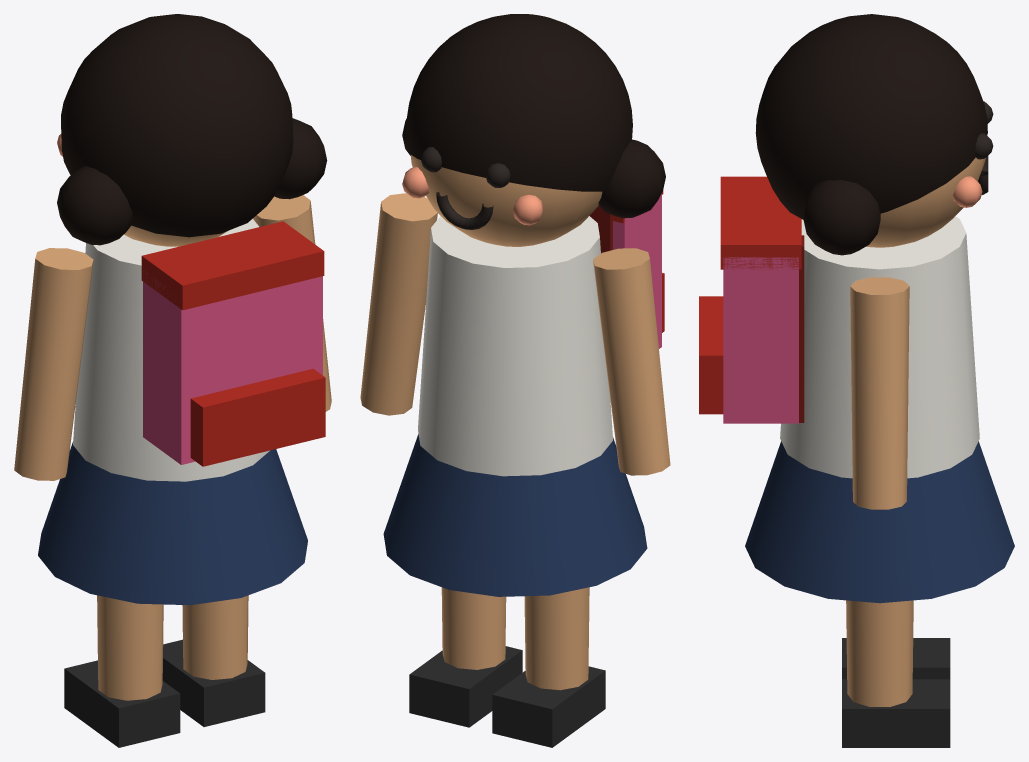
Rendered from visitor_4.fbx.
3 views of the same model, side by side, from view 1: azimuth 30°, elevation 25°; view 2: azimuth 150°, elevation 25°; view 3: azimuth 270°, elevation 25° (orthographic). The views are drawn at different scales.
Visible parts, largest first — view 1: M__visitor_4-body, M__visitor_4-armL, M__visitor_4-shinL, M__visitor_4-shinR, M__visitor_4-armR, M__visitor_4-legL; view 2: M__visitor_4-body, M__visitor_4-armL, M__visitor_4-armR, M__visitor_4-shinL, M__visitor_4-shinR, M__visitor_4-legL; view 3: M__visitor_4-body, M__visitor_4-armR, M__visitor_4-shinR, M__visitor_4-shinL, M__visitor_4-legR.
Part boxes in pixels (box(x1,y1,x2,y2)): M__visitor_4-body: box(38, 14, 327, 605); M__visitor_4-armL: box(14, 248, 93, 480); M__visitor_4-shinL: box(64, 601, 180, 747); M__visitor_4-shinR: box(162, 595, 265, 726); M__visitor_4-armR: box(253, 195, 331, 411); M__visitor_4-legL: box(97, 595, 159, 612); M__visitor_4-body: box(383, 14, 665, 596); M__visitor_4-armL: box(593, 248, 670, 475); M__visitor_4-armR: box(360, 193, 437, 415); M__visitor_4-shinL: box(492, 593, 605, 747); M__visitor_4-shinR: box(409, 587, 522, 727); M__visitor_4-legL: box(528, 587, 589, 603); M__visitor_4-body: box(699, 14, 1014, 603); M__visitor_4-armR: box(850, 277, 909, 509); M__visitor_4-shinR: box(842, 606, 950, 747); M__visitor_4-shinL: box(842, 638, 950, 679); M__visitor_4-legR: box(846, 600, 913, 619).
Bounding box in the file's own units: 0.6547 × 1.4 × 0.585.
